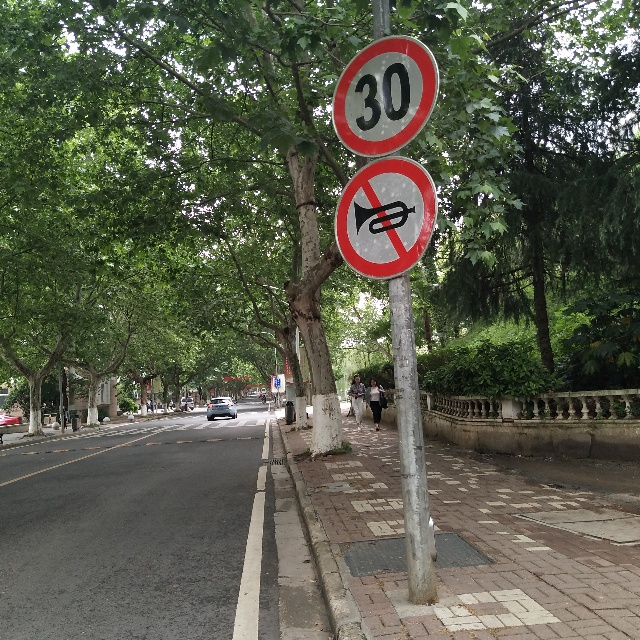nohonk: (338, 173, 431, 265)
